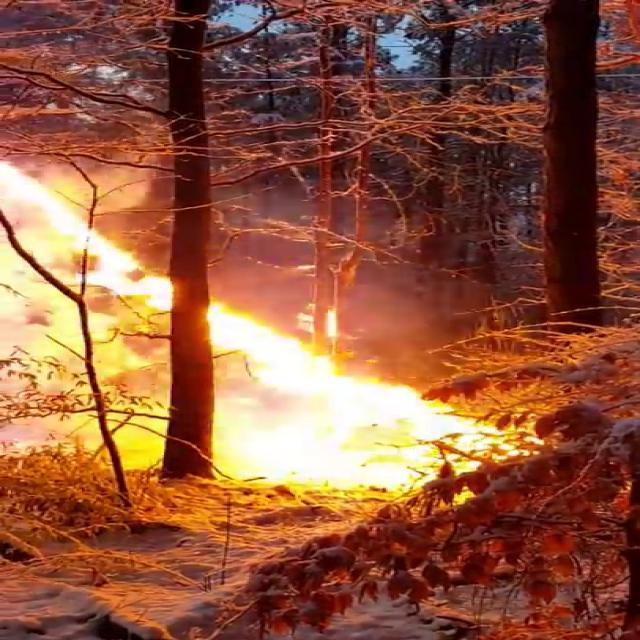Fire: (202, 286, 547, 501), (0, 148, 178, 318)
